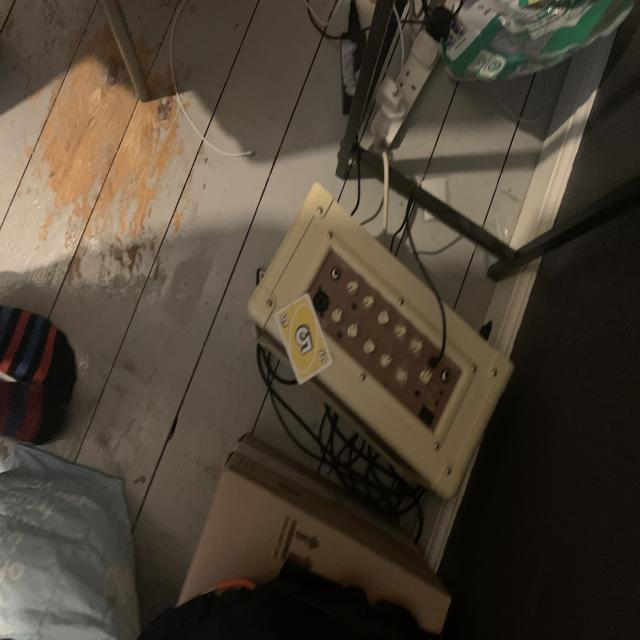lyellow-5: (278, 312, 291, 331)
